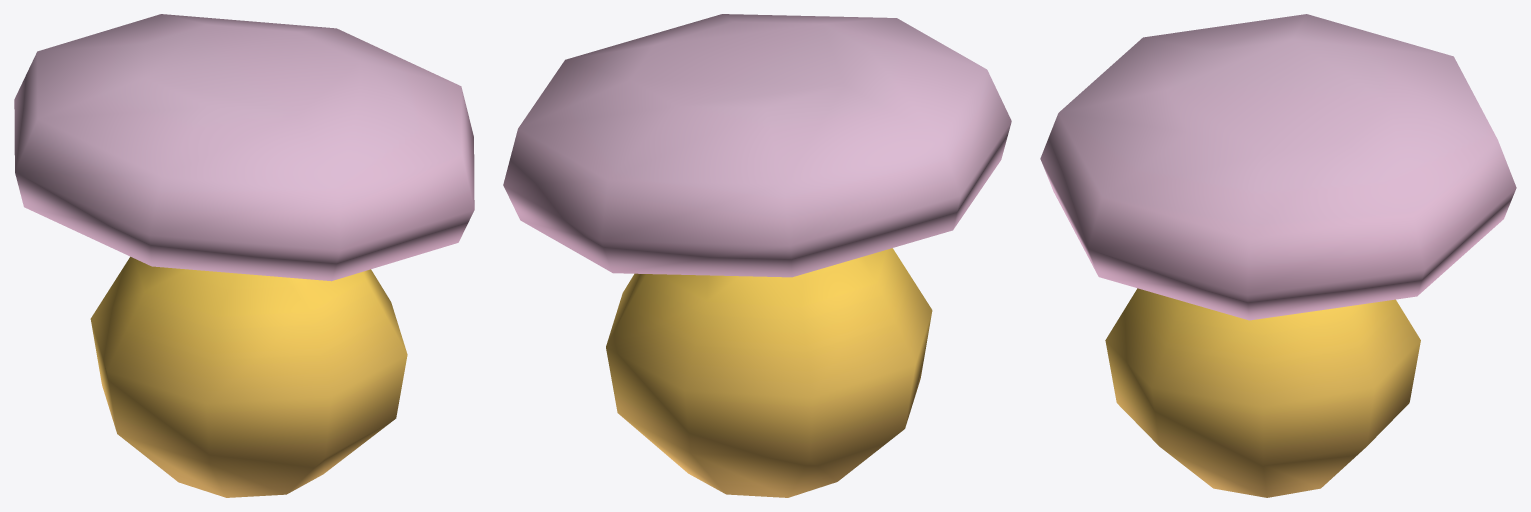
Rendered from media_seta05.fbx.
The picture shows the model from 3 angles, left to right: view 1: azimuth 30°, elevation 25°; view 2: azimuth 150°, elevation 25°; view 3: azimuth 270°, elevation 25°; orthographic projection. The views are drawn at different scales.
Visible parts, largest first — view 1: SetaM05; view 2: SetaM05; view 3: SetaM05.
Boxes of the visible parts, x1=… form: SetaM05: x1=14, y1=14, x2=474, y2=497; SetaM05: x1=503, y1=14, x2=1011, y2=497; SetaM05: x1=1040, y1=14, x2=1516, y2=497.
Bounding box in the file's own units: 5138 × 4598 × 5164.
1 material, 1 textured.
